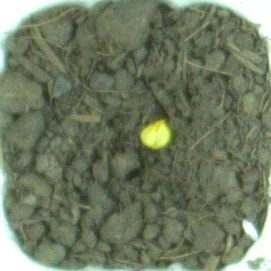chilli seed: (138, 118, 171, 150)
